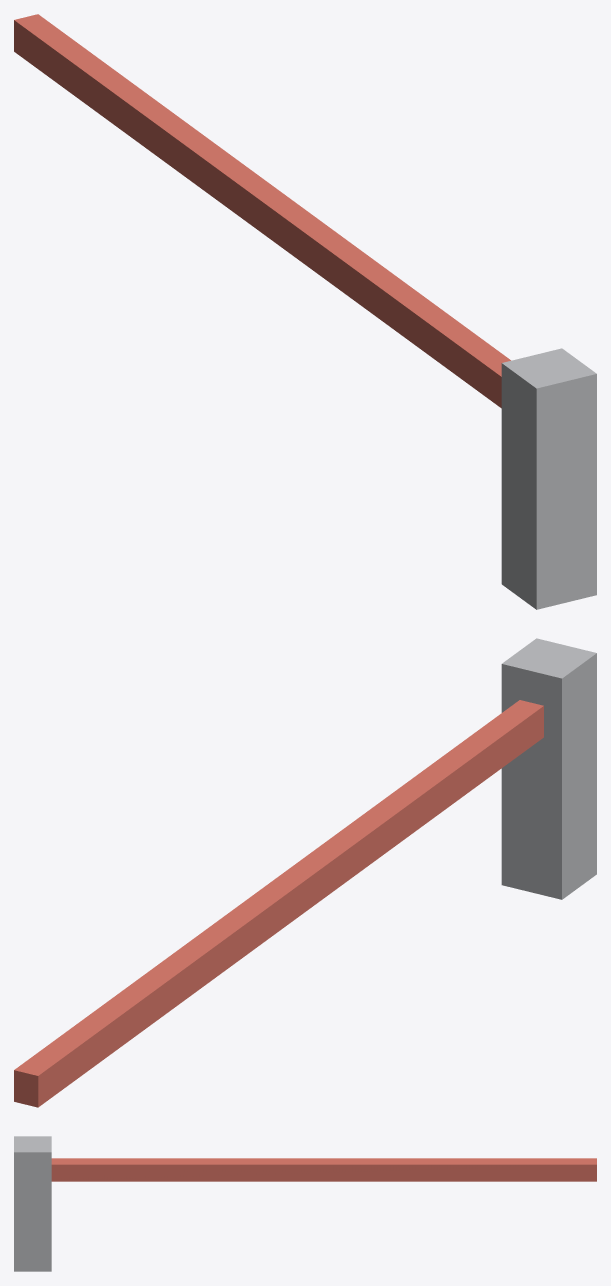
The model's file is gate.glb.
3 views of the same model, one above another, from view 1: azimuth 30°, elevation 25°; view 2: azimuth 150°, elevation 25°; view 3: azimuth 270°, elevation 25° (orthographic). The views are drawn at different scales.
Visible parts, largest first — view 1: bar, post; view 2: bar, post; view 3: bar, post.
Boxes of the visible parts, <box> form: bar: <box>14,14,510,408</box>; post: <box>501,348,596,609</box>; bar: <box>14,700,543,1107</box>; post: <box>501,638,596,899</box>; bar: <box>51,1158,596,1181</box>; post: <box>14,1136,51,1271</box>.
Bounding box in the file's own units: 0.4 × 1.4 × 6.2.
